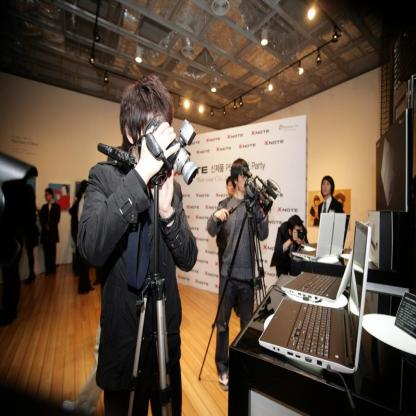board: (257, 219, 372, 374), (282, 219, 371, 302)
